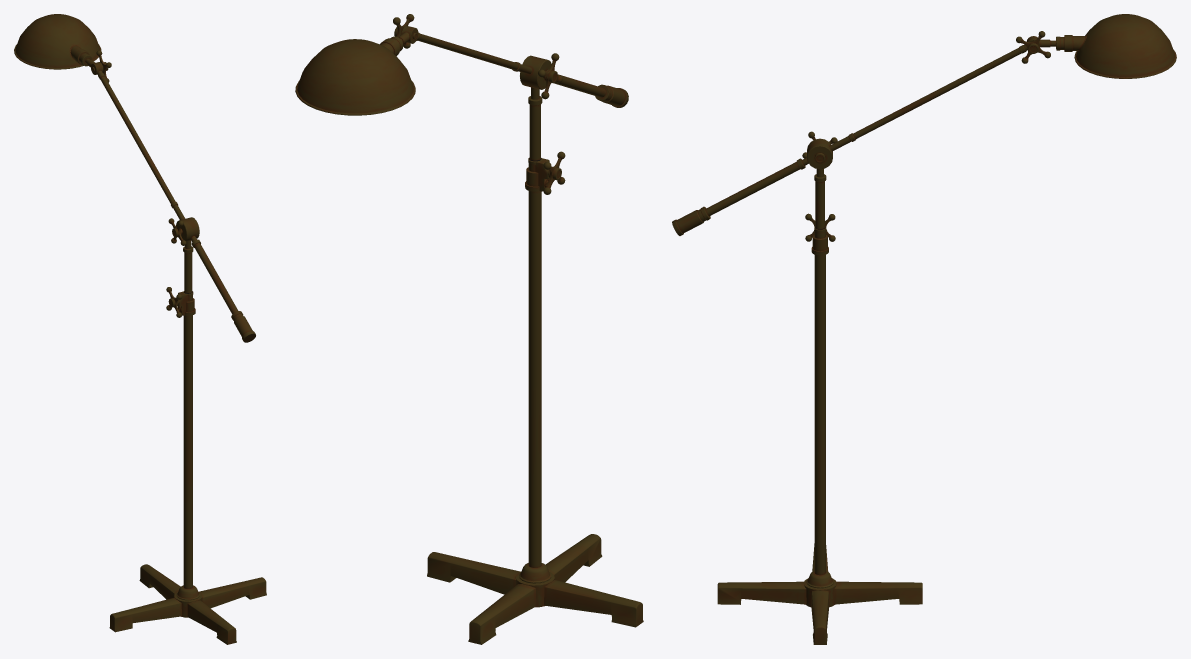
The model's file is a_floor_lamp.glb.
3 views of the same model, side by side, from view 1: azimuth 30°, elevation 25°; view 2: azimuth 150°, elevation 25°; view 3: azimuth 270°, elevation 25° (orthographic). The views are drawn at different scales.
Visible parts, largest first — view 1: Object_2; view 2: Object_2; view 3: Object_2.
Part boxes in pixels (box(x1,y1,x2,y2)): Object_2: box(14, 14, 266, 644); Object_2: box(295, 14, 643, 644); Object_2: box(672, 14, 1176, 644).
Bounding box in the file's own units: 2.68 × 8.38 × 6.6.
Materials: 4 (2 with a texture image).
